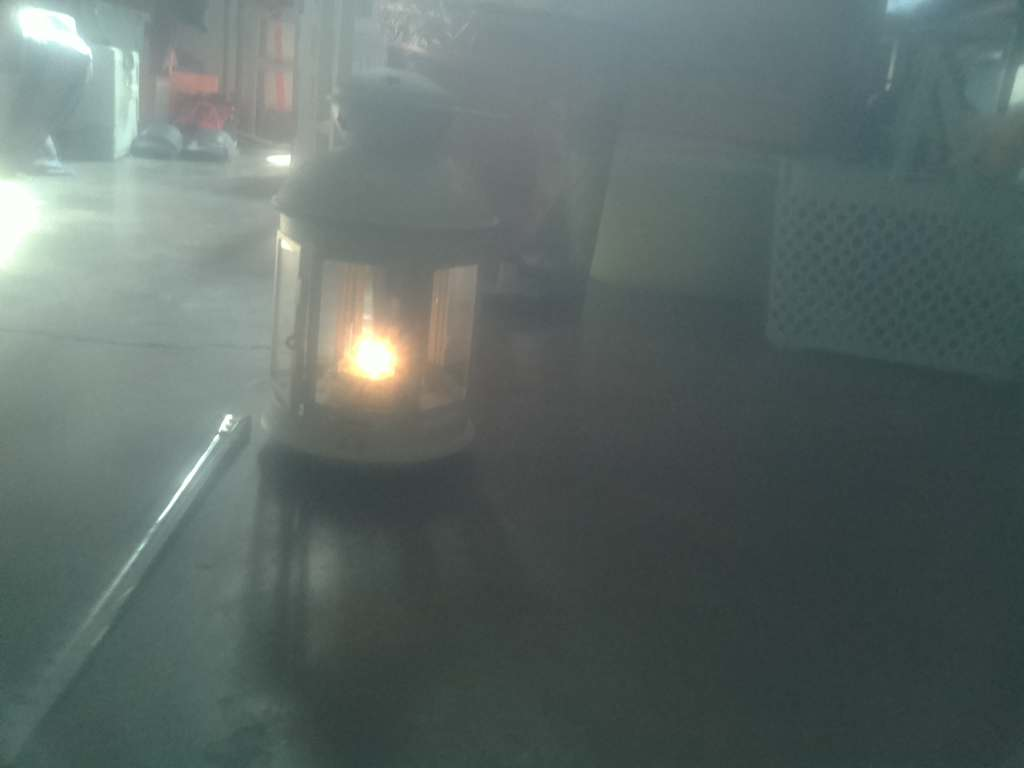fire: (317, 295, 427, 410)
